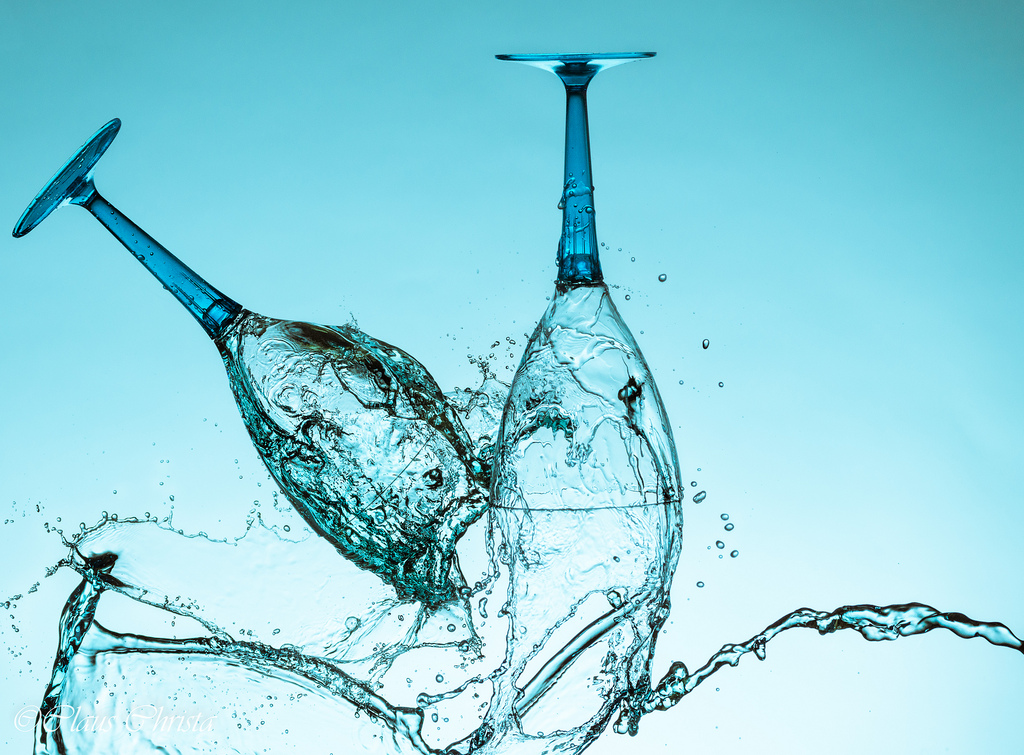glass of water: (473, 302, 724, 546)
